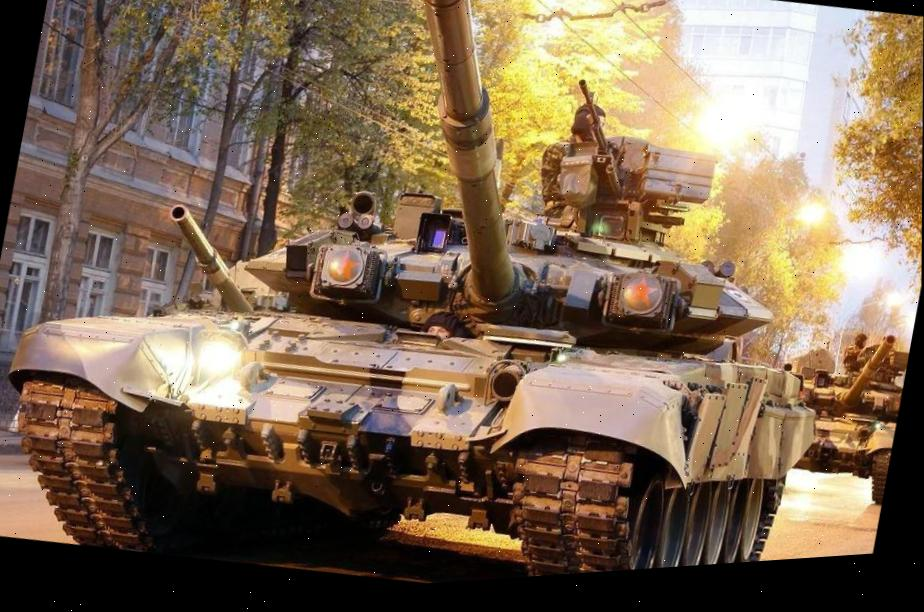tank: (0, 72, 848, 612), (762, 319, 912, 531)
